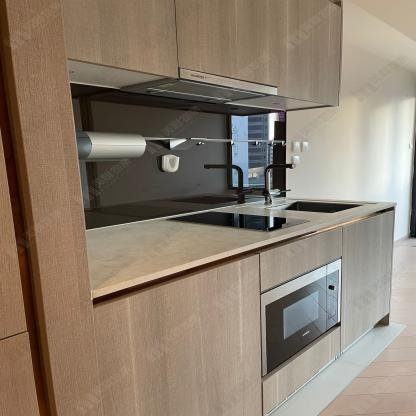Cupboard: (338, 207, 394, 367)
Exhaust Hood: (121, 69, 278, 105)
Faucet: (258, 158, 298, 206)
Microwave: (257, 258, 346, 379)
Sink: (260, 198, 362, 215)
Stove: (166, 210, 311, 232)
